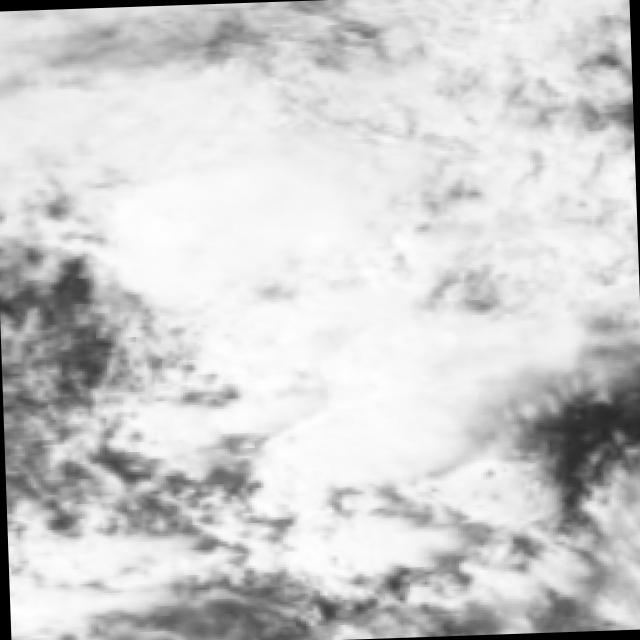CB: (152, 91, 328, 292), (322, 335, 452, 467)
